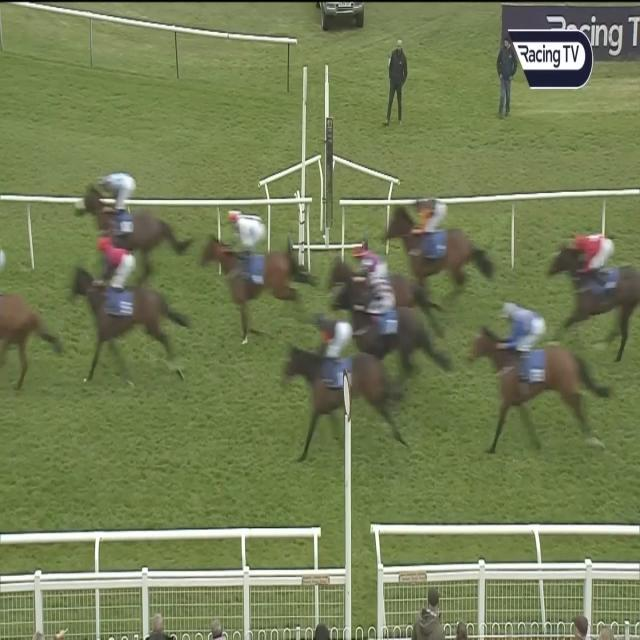horses-racing: (472, 301, 604, 443), (280, 311, 395, 448), (68, 234, 179, 375), (201, 198, 298, 328), (548, 222, 640, 345), (386, 184, 489, 283), (76, 170, 176, 261), (344, 272, 434, 360), (329, 245, 414, 301)
